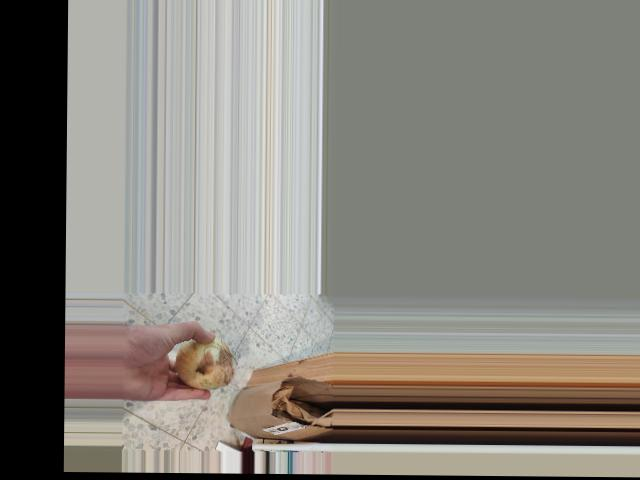onion: (168, 332, 236, 389)
